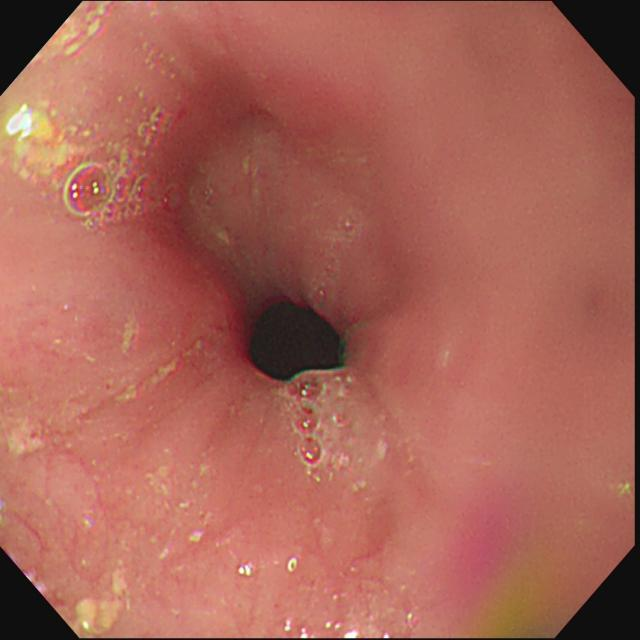E: (233, 282, 348, 384)
J: (112, 339, 206, 404), (12, 109, 71, 182), (74, 566, 130, 635), (4, 386, 53, 456), (119, 318, 139, 357)
T: (68, 107, 172, 231), (285, 380, 348, 483)
U: (283, 621, 358, 639)
